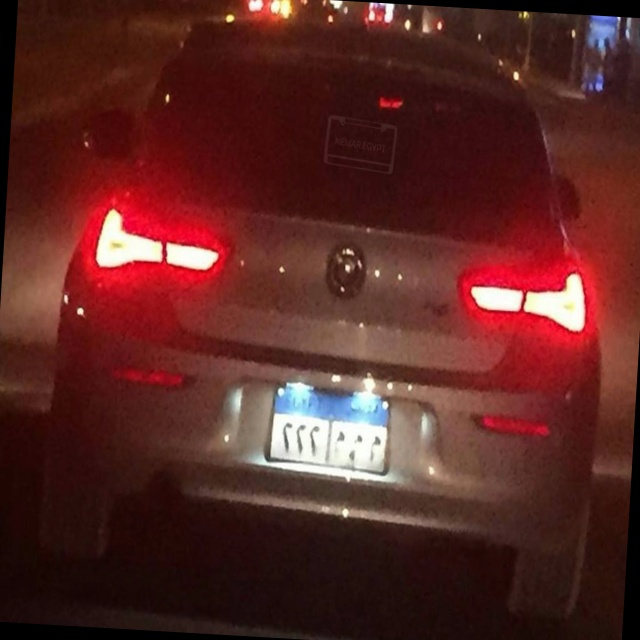License Plate: (265, 379, 394, 476)
